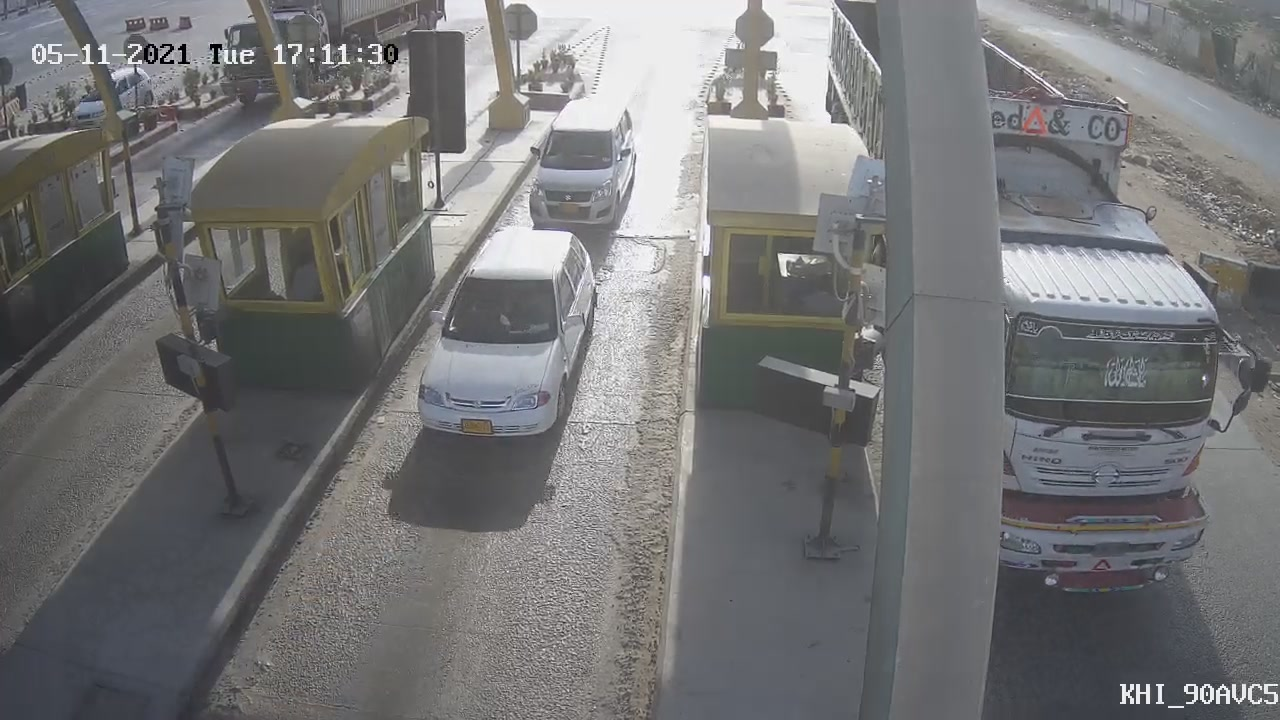F1: (394, 214, 630, 461), (511, 87, 657, 243)
